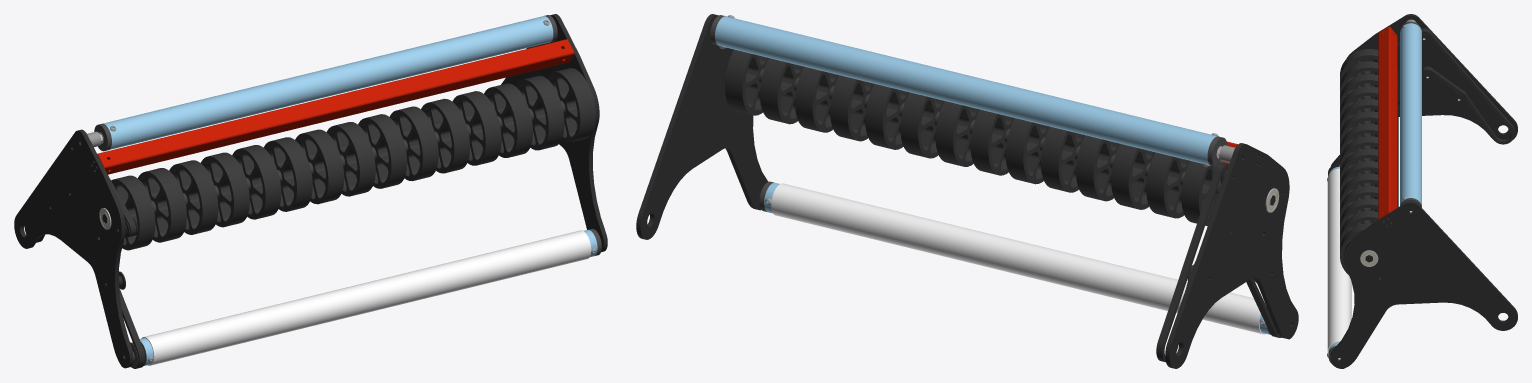
3 renders of one model, left to right at view 1: azimuth 30°, elevation 25°; view 2: azimuth 150°, elevation 25°; view 3: azimuth 270°, elevation 25°, orthographic. The views are drawn at different scales.
Visible parts, largest first — view 1: 4" Thrifty Squish Wheel (45A, 1" Wide, 1/2" Hex Bore) (×15), Roller material, Roller Tube, Part 10, roller plate, roller plate 2, 250T 5M 9mm Wide DS Belt; view 2: 4" Thrifty Squish Wheel (45A, 1" Wide, 1/2" Hex Bore) (×14), Roller Tube, Roller material, roller plate, roller plate 2, 250T 5M 9mm Wide DS Belt; view 3: roller plate 2, 4" Thrifty Squish Wheel (45A, 1" Wide, 1/2" Hex Bore) (×15), roller plate, Roller Tube, Part 10, Roller material, 250T 5M 9mm Wide DS Belt, 1/2" Hex Bore Bearing (1.125" OD, 0.313" WD, Shielded, Flang.
Boxes of the visible parts, <box> form: 4" Thrifty Squish Wheel (45A, 1" Wide, 1/2" Hex Bore) (×15): <box>111,68,595,250</box>; Roller material: <box>141,230,591,365</box>; Roller Tube: <box>103,16,553,149</box>; Part 10: <box>97,39,574,174</box>; roller plate: <box>14,129,133,368</box>; roller plate 2: <box>501,14,607,252</box>; 250T 5M 9mm Wide DS Belt: <box>24,175,144,368</box>; 4" Thrifty Squish Wheel (45A, 1" Wide, 1/2" Hex Bore) (×14): <box>725,49,1227,226</box>; Roller Tube: <box>715,16,1216,165</box>; Roller material: <box>771,183,1265,334</box>; roller plate: <box>1165,143,1298,368</box>; roller plate 2: <box>636,14,768,239</box>; 250T 5M 9mm Wide DS Belt: <box>1156,163,1281,362</box>; roller plate 2: <box>1330,201,1517,368</box>; 4" Thrifty Squish Wheel (45A, 1" Wide, 1/2" Hex Bore) (×15): <box>1340,49,1398,278</box>; roller plate: <box>1331,14,1517,165</box>; Roller Tube: <box>1400,23,1421,205</box>; Part 10: <box>1378,26,1397,225</box>; Roller material: <box>1327,168,1351,352</box>; 250T 5M 9mm Wide DS Belt: <box>1328,29,1514,175</box>; 1/2" Hex Bore Bearing (1.125" OD, 0.313" WD, Shielded, Flang: <box>1360,250,1378,266</box>.
Bounding box in the file's own units: 0.7747 × 0.3198 × 0.3293.
